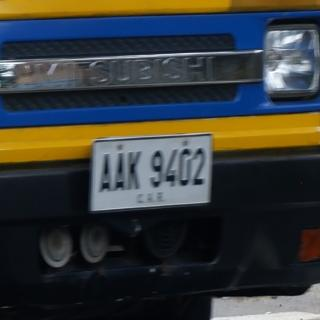license: (90, 134, 214, 213)
